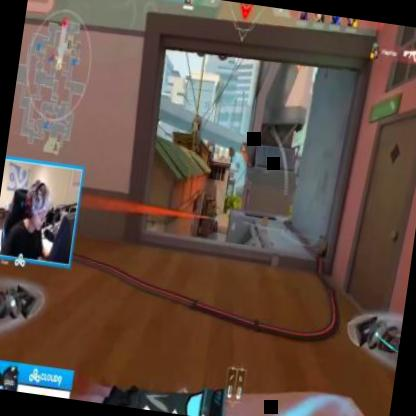enemy: (213, 216, 219, 232)
enemy_head: (216, 214, 218, 220)
